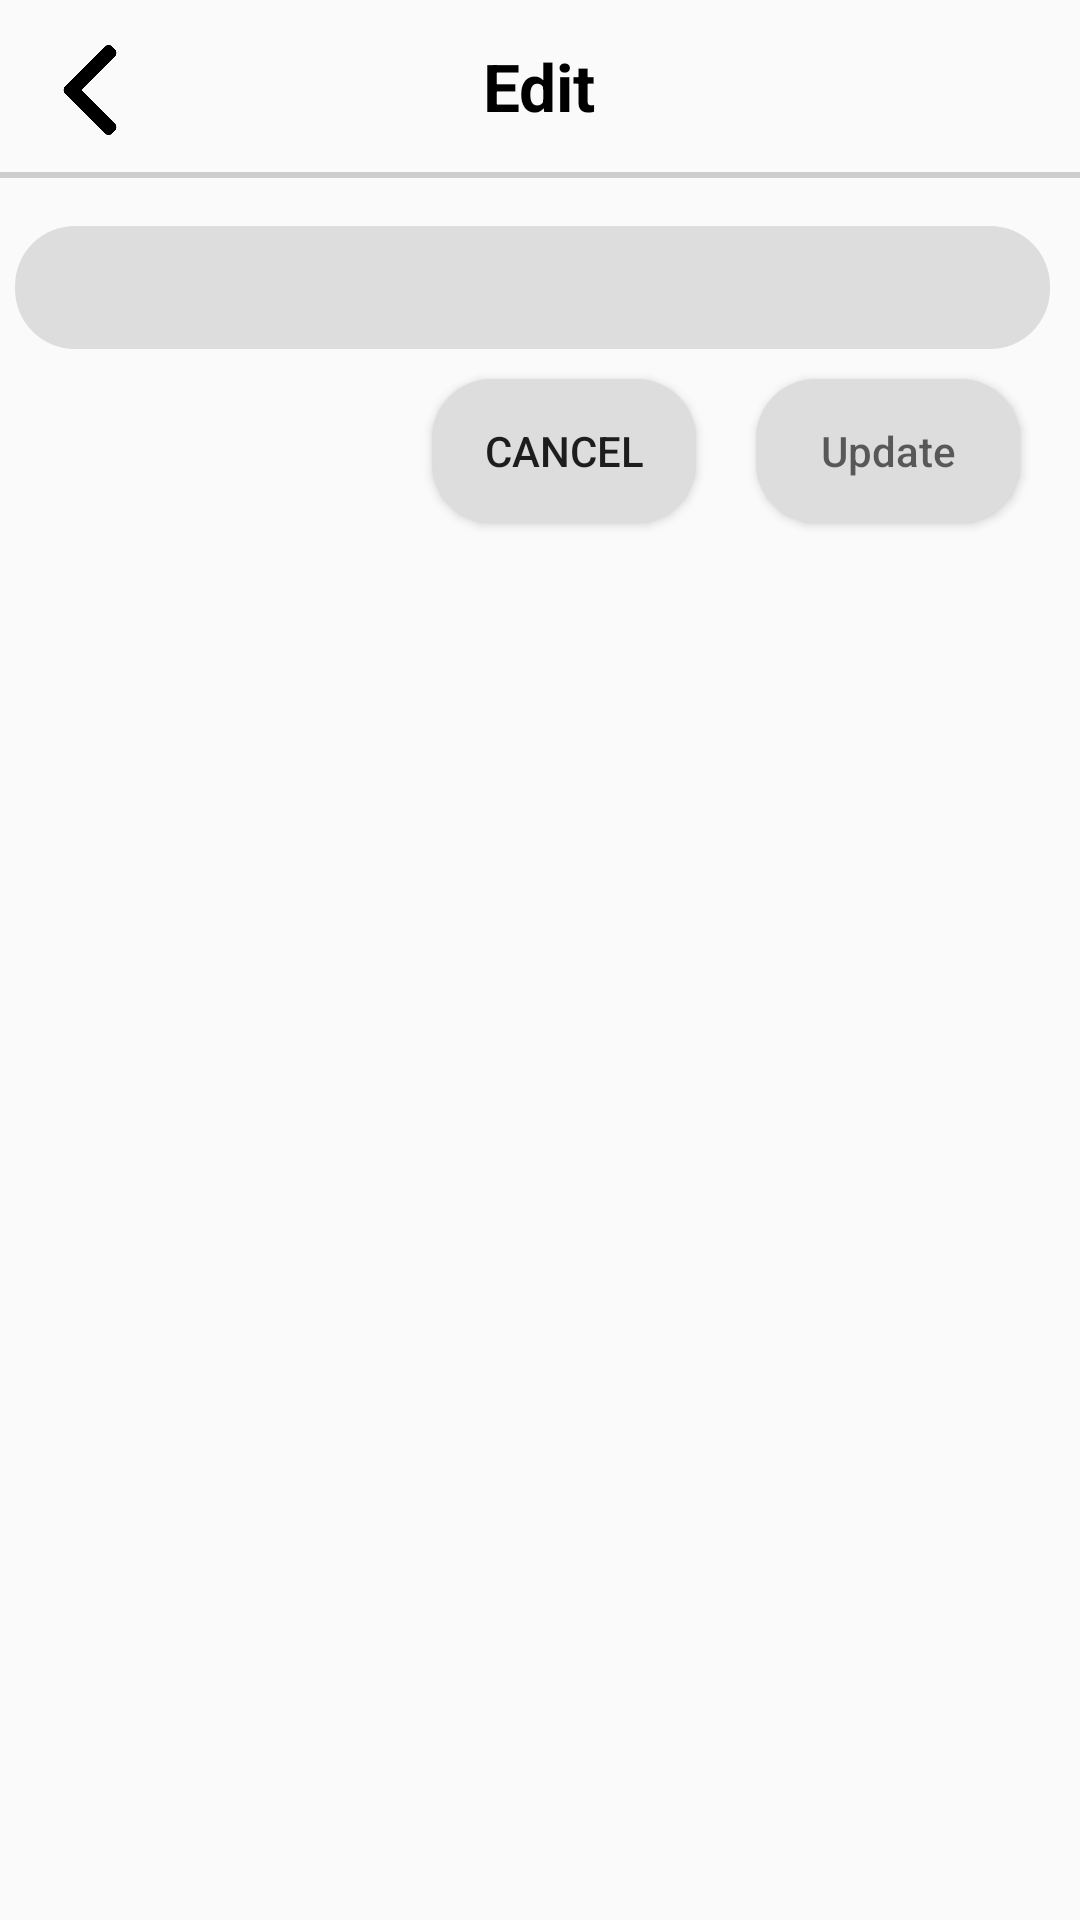

Icons on this 1080 × 1920 Android screen, each with the point to tap as (x=x, y=y):
back arrow: (x=90, y=90)
